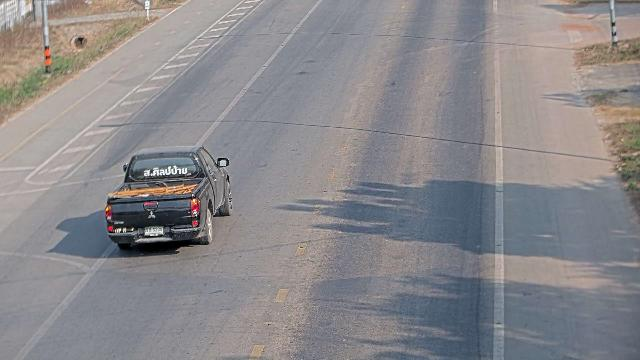pickup-truck: (104, 145, 233, 250)
